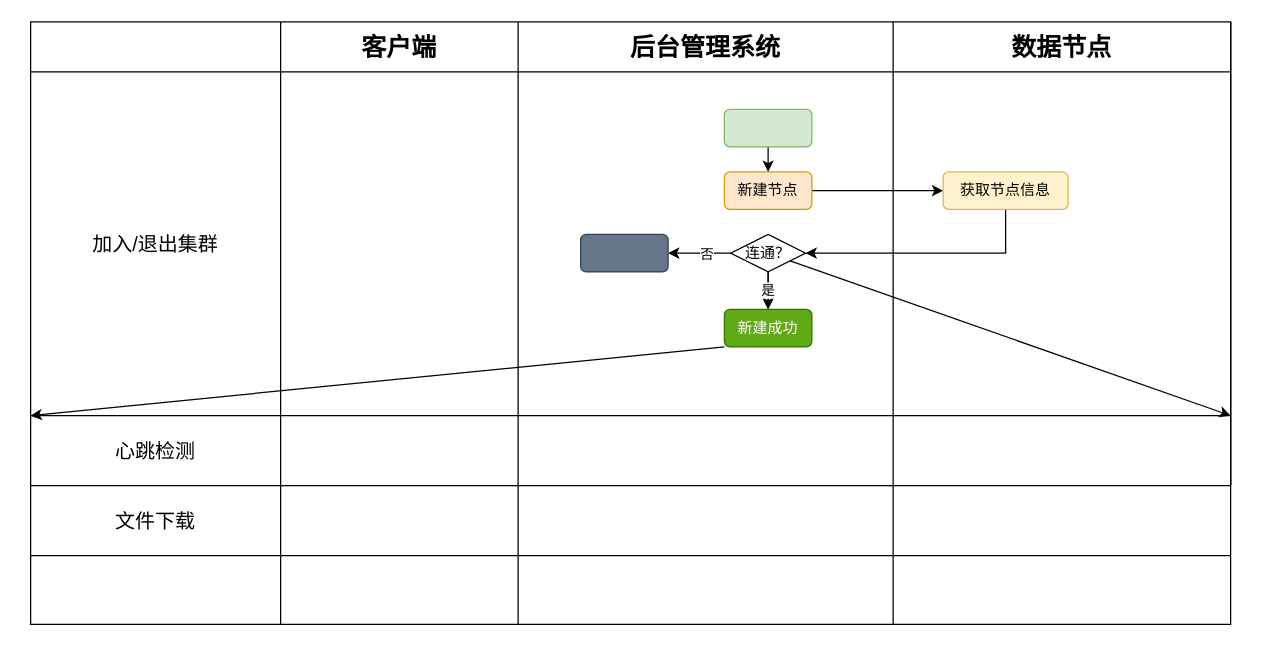
This 1263x646 diagram has some shape labels left out. Each missing label, with the centre of its shape:
"新建失败" goes at pixel 623 252.
"申请添加" goes at pixel 767 127.
